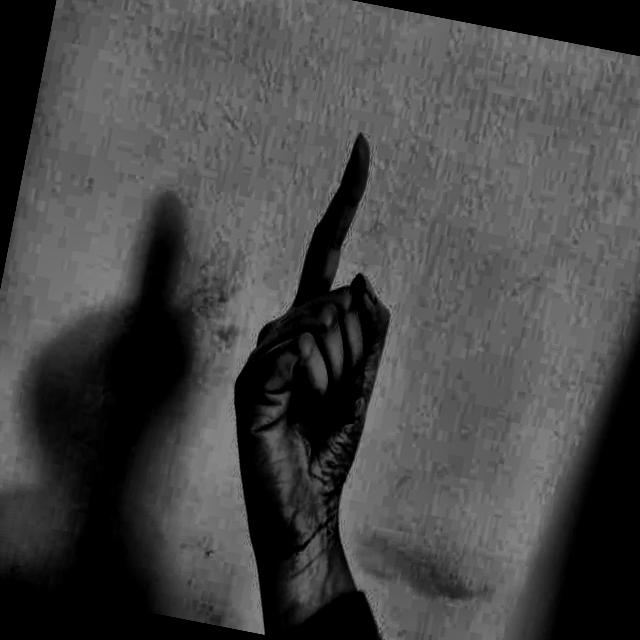U: (192, 85, 456, 569)
